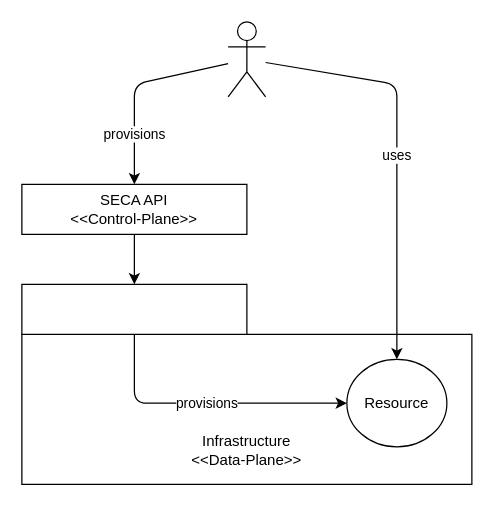
This 494x506 diagram has some shape labels left out. The shapes that lost their labels are listed below. From the top down, each one's centre as x and y in pixels, then its label:
At [246,59]: "User".
At [134,308]: "Cloud Service Provider API <<Control-Plane>>".
